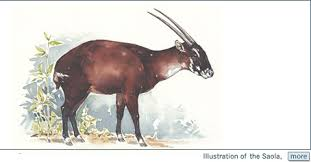sao_la: (55, 22, 213, 106)
